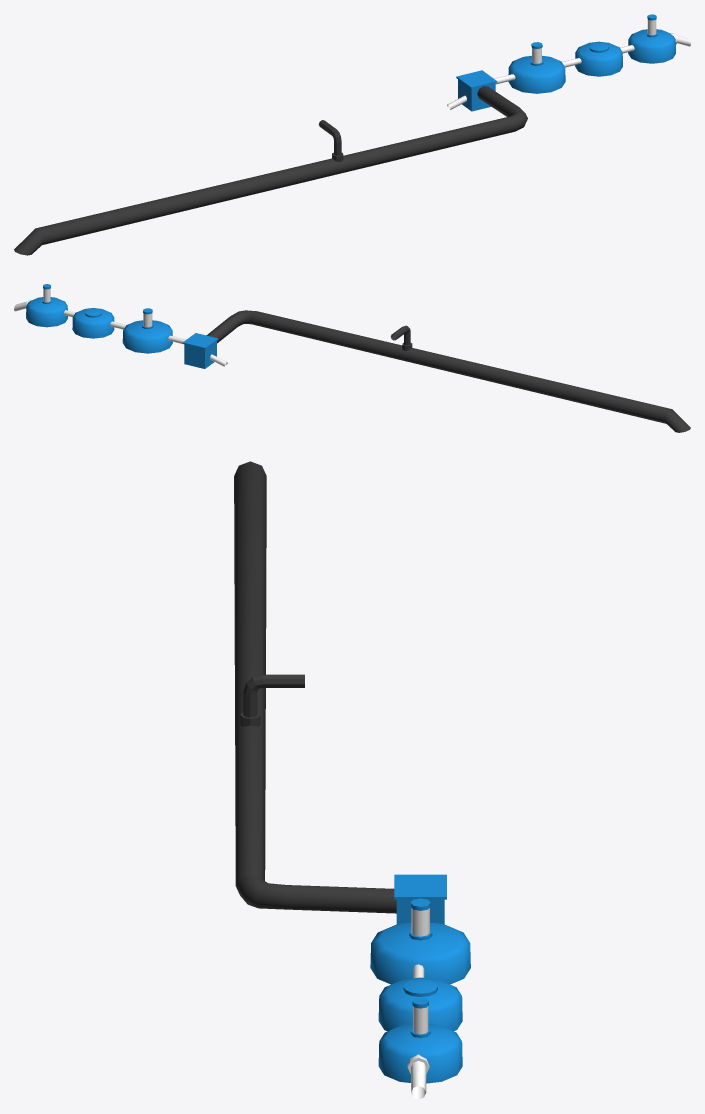
The model's file is EstacaoTratamento.fbx.
3 renders of one model, top to bottom at view 1: azimuth 30°, elevation 25°; view 2: azimuth 150°, elevation 25°; view 3: azimuth 270°, elevation 25°, orthographic. The views are drawn at different scales.
Parts seen in each view (by area): view 1: Tubulacao_1, EstacaoTratamento; view 2: Tubulacao_1, EstacaoTratamento; view 3: Tubulacao_1, EstacaoTratamento.
Boxes of the visible parts, left/top/right/bottom form: Tubulacao_1: left=14, top=86, right=527, bottom=255; EstacaoTratamento: left=447, top=14, right=690, bottom=111; Tubulacao_1: left=206, top=310, right=690, bottom=432; EstacaoTratamento: left=14, top=284, right=227, bottom=368; Tubulacao_1: left=234, top=461, right=396, bottom=913; EstacaoTratamento: left=370, top=874, right=470, bottom=1099.
Size of the model in its own units: 5202 by 369 by 844.
